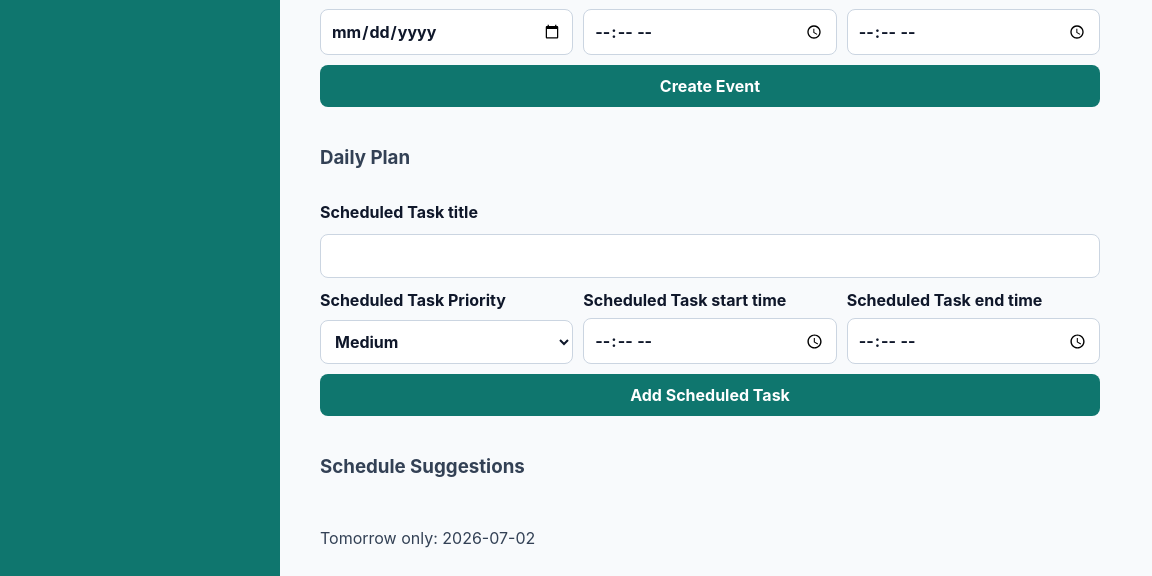
Scenario: Goals Tracker app shell › updates reminders after Daily Plan edits and allows one snooze
(page scrolled)
Step 1. Type "Practice contest notes" into the field named "Scheduled Task title" → (710, 256), box [320, 234, 1100, 278]
Step 2. Select "High" in the dropdown named "Scheduled Task Priority" → (447, 342), box [320, 320, 573, 364]
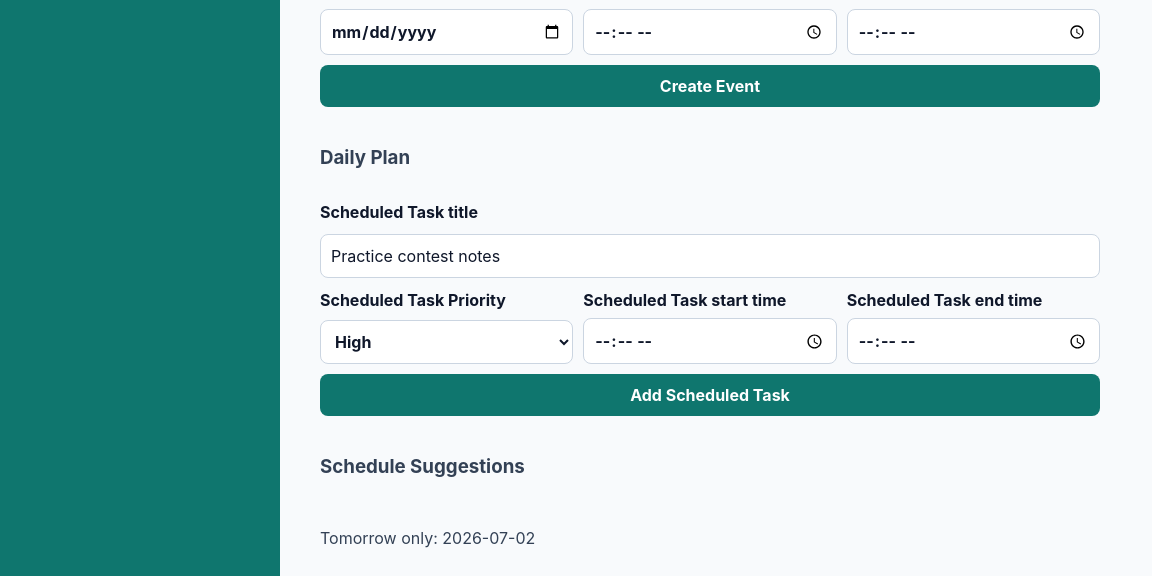
Step 3. Type "17:00" into the time field named "Scheduled Task start time" → (710, 341), box [583, 318, 837, 364]
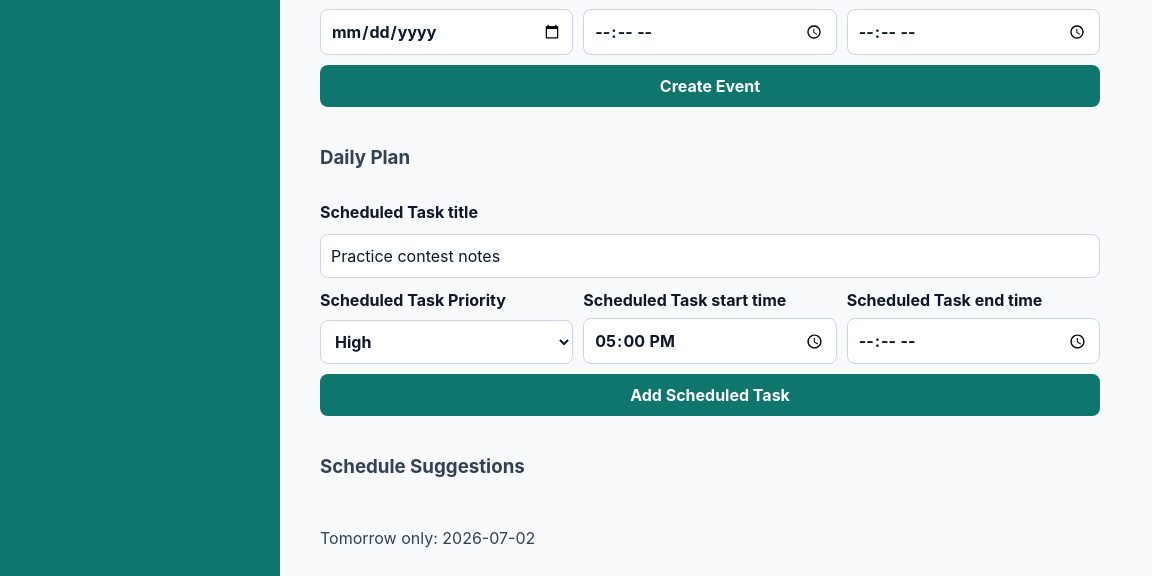
Step 4. Type "18:00" into the time field named "Scheduled Task end time" → (973, 341), box [847, 318, 1100, 364]
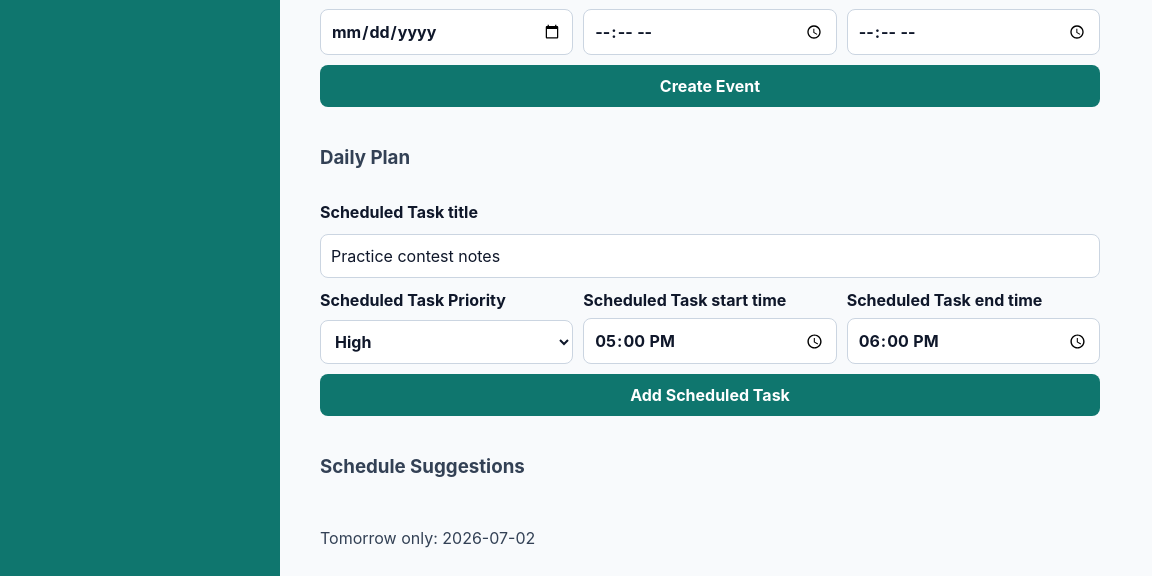
Step 5. Click the button "Add Scheduled Task" → (710, 395), box [320, 374, 1100, 416]
(page scrolled)
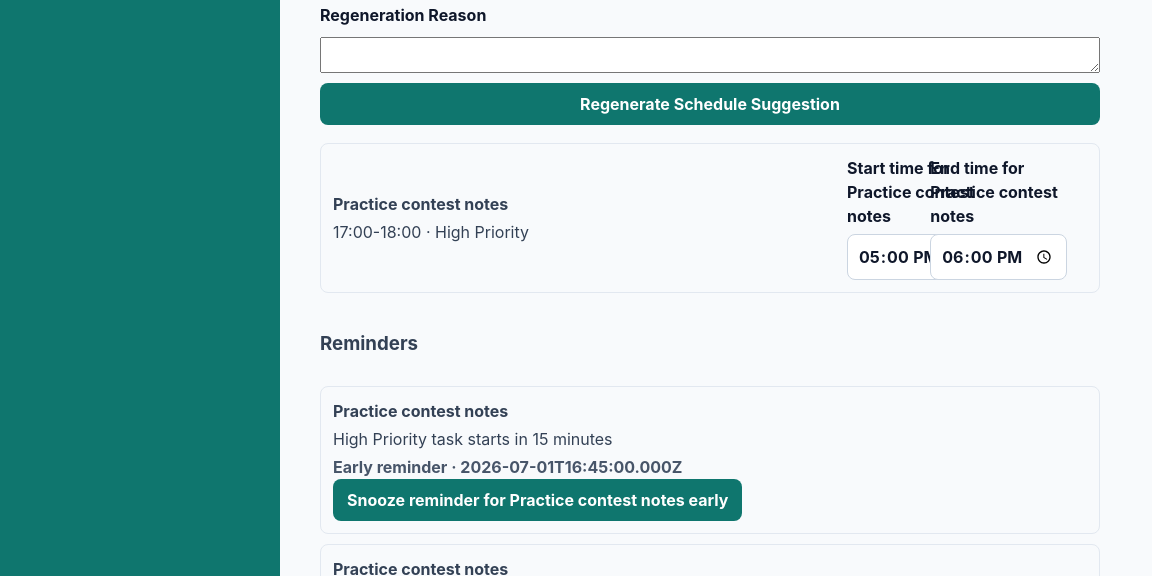
Expected: the text "High Priority task starts in 15 minutes" is shown, [333, 430, 612, 450]
Expected: the text "T16:45:00.000Z" is shown, [333, 458, 682, 478]
Step 6. Replace the text in the time field named "Start time for Practice contest notes" with "18:00" → (915, 257), box [847, 234, 984, 280]
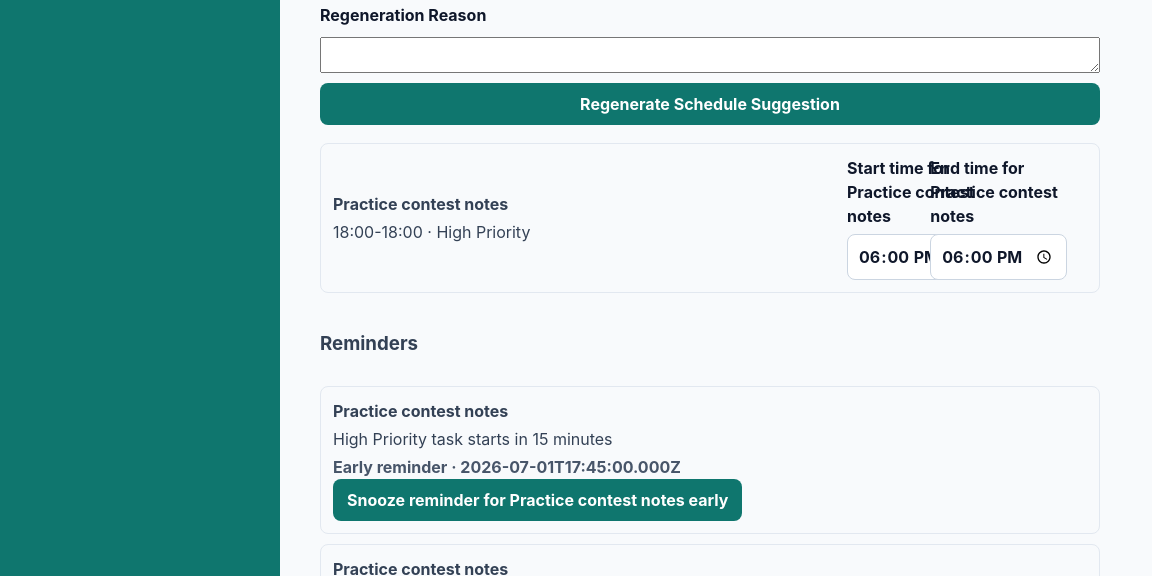
Expected: the button "Snooze reminder for Practice contest notes early" is shown
Expected: the text "T17:45:00.000Z" is shown, [333, 458, 681, 478]
Step 7. Click the button "Snooze reminder for Practice contest notes early" → (538, 500), box [333, 480, 742, 522]
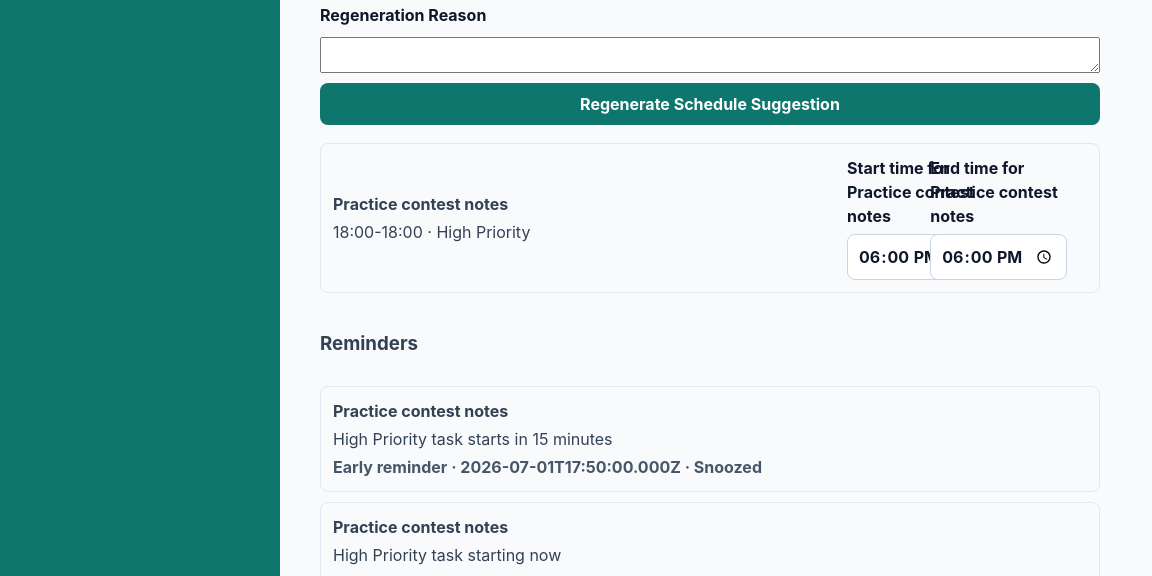
Expected: the text "Snoozed" is shown, [685, 458, 762, 478]
Expected: the text "T17:50:00.000Z" is shown, [333, 458, 685, 478]
